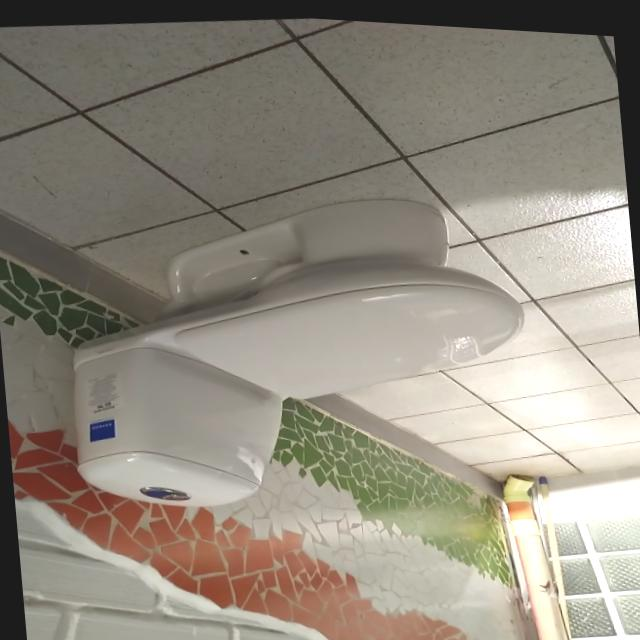toilet: (54, 166, 541, 532)
